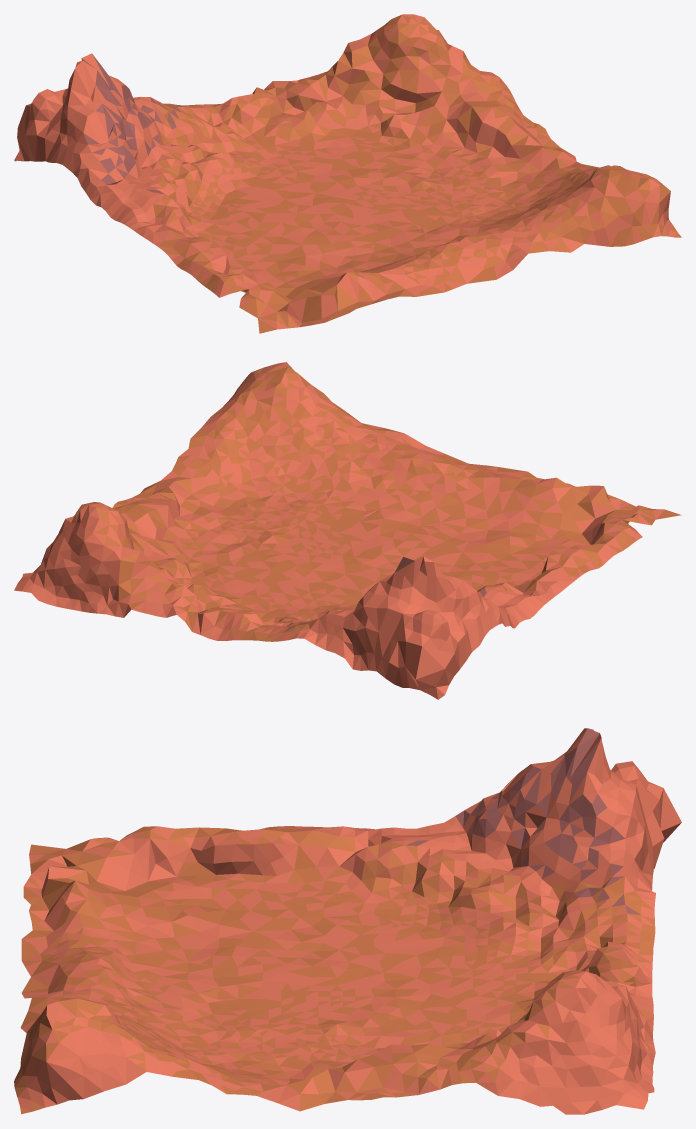
Rendered from Marsian surface.fbx.
3 renders of one model, top to bottom at view 1: azimuth 30°, elevation 25°; view 2: azimuth 150°, elevation 25°; view 3: azimuth 270°, elevation 25°, orthographic. The views are drawn at different scales.
Visible parts, largest first — view 1: Plane; view 2: Plane; view 3: Plane.
Part boxes in pixels (x1,y1,x2,y2): Plane: (14, 14, 681, 333); Plane: (14, 362, 681, 699); Plane: (14, 728, 681, 1114).
Bounding box in the file's own units: 45411 × 12006 × 46904.
